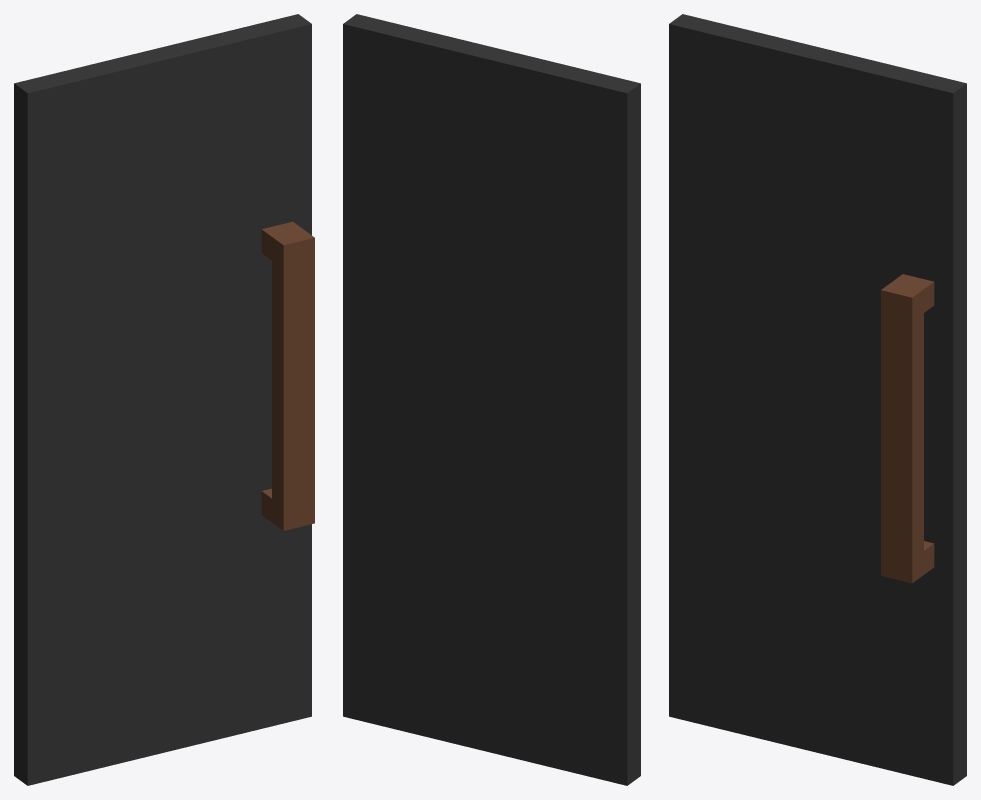
Rendered from shelf_door_1.glb.
The picture shows the model from 3 angles, left to right: view 1: azimuth 30°, elevation 25°; view 2: azimuth 150°, elevation 25°; view 3: azimuth 330°, elevation 25°; orthographic projection.
Parts seen in each view (by area): view 1: Expositor Door 3; view 2: Expositor Door 3; view 3: Expositor Door 3.
Part boxes in pixels (left/top/right/bottom): Expositor Door 3: left=14, top=14, right=314, bottom=785; Expositor Door 3: left=343, top=14, right=640, bottom=785; Expositor Door 3: left=669, top=14, right=966, bottom=785.
Size of the model in its own units: 0.3303 by 0.7689 by 0.0716.
Materials: 1 (1 with a texture image).
